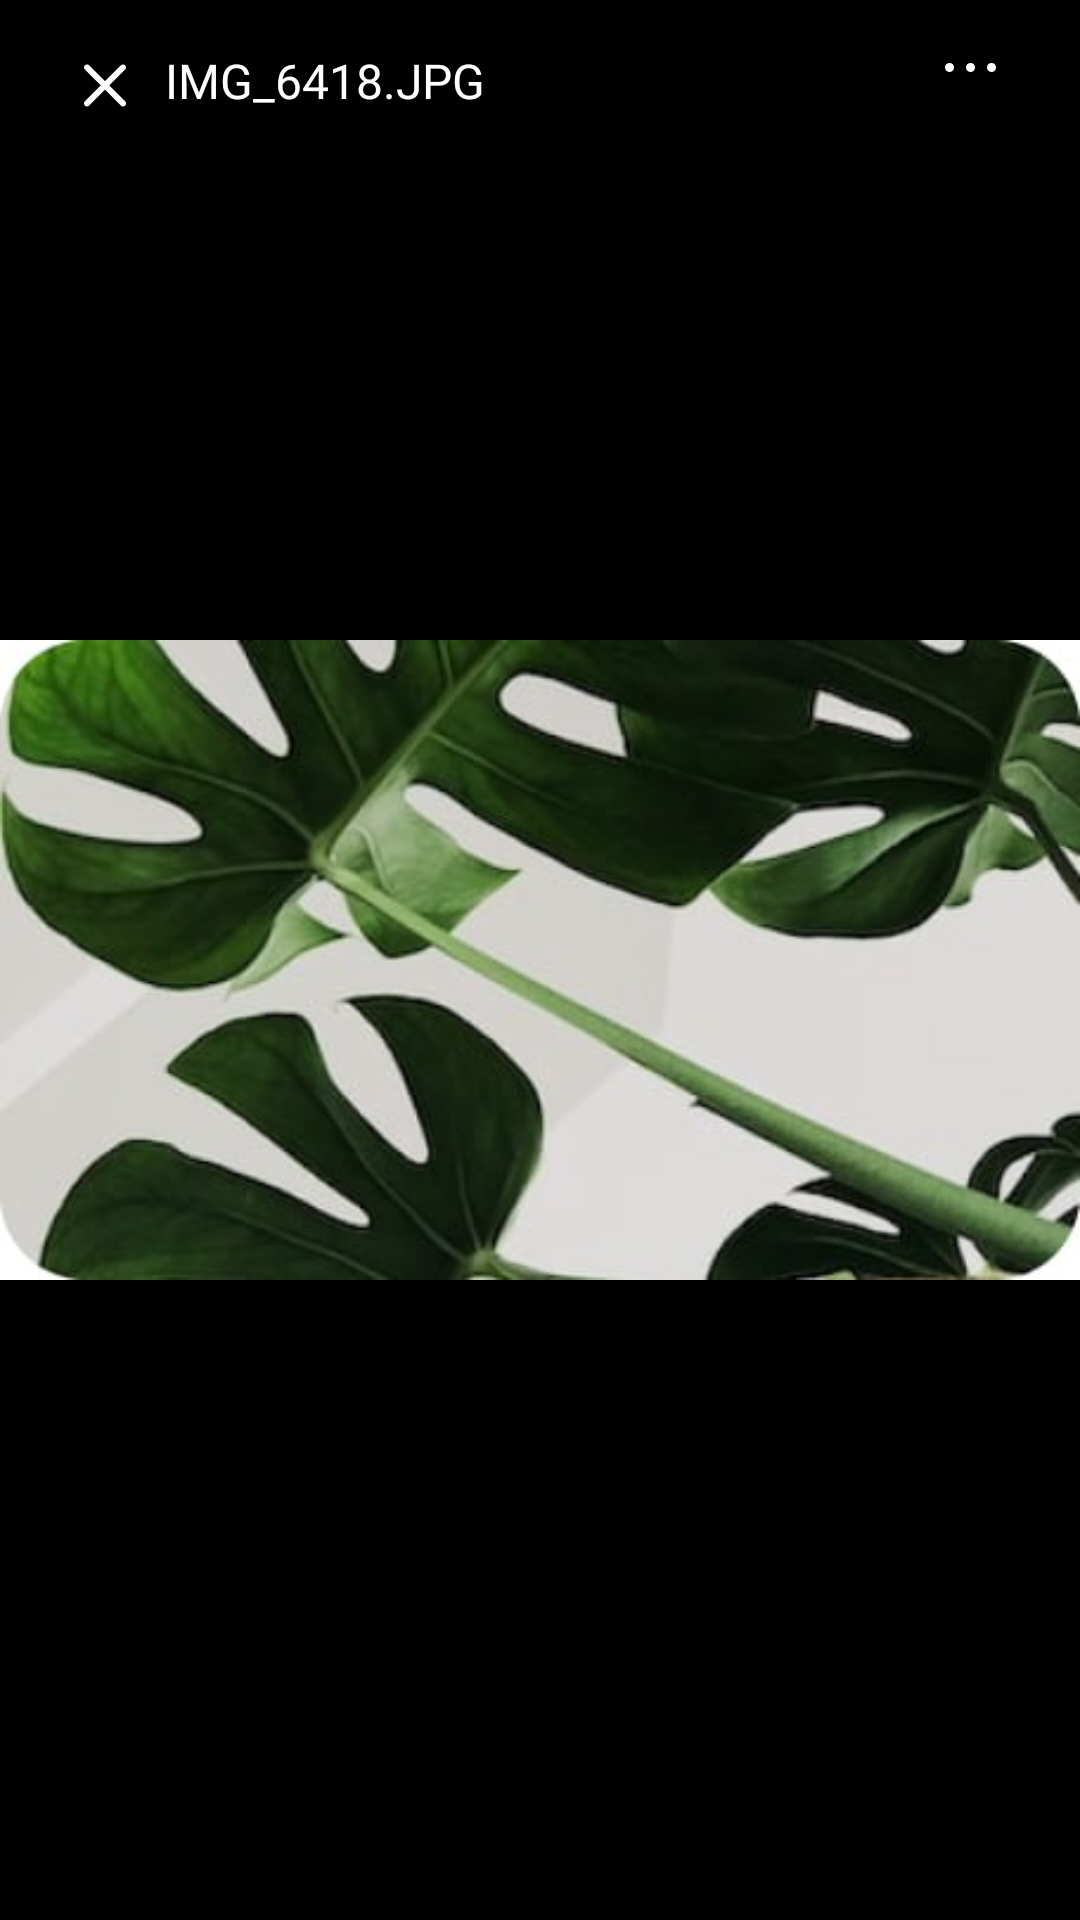

Named icons in this screenshot (1080×1920) and their centers, (x=x, y=y):
dot: (x=970, y=67)
